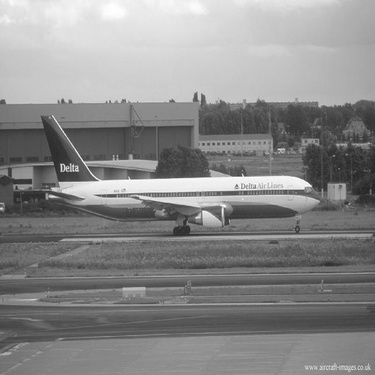airplane: (21, 105, 332, 247)
